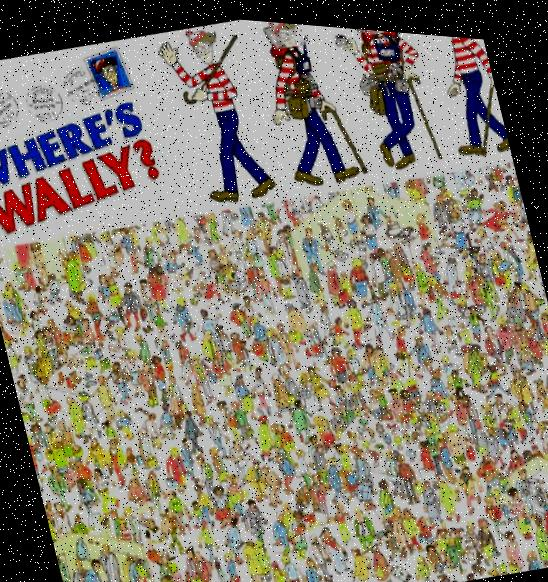waldo: (184, 19, 221, 65), (90, 52, 123, 90), (267, 17, 307, 47), (76, 316, 90, 330)
